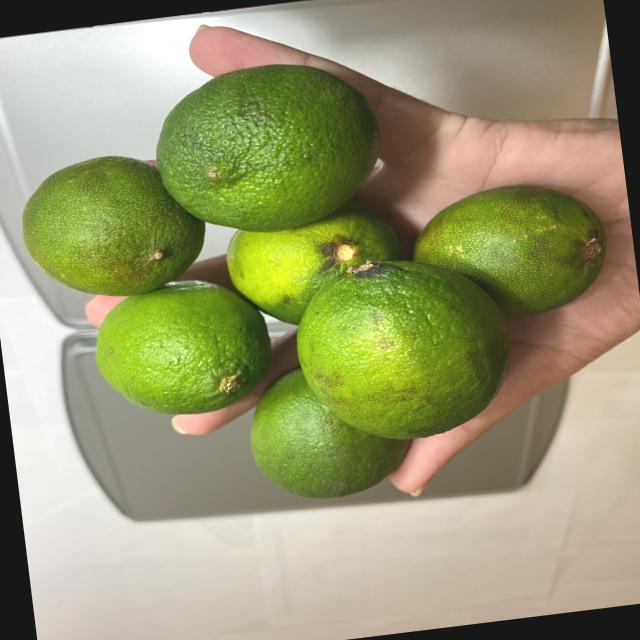lemon: (0, 23, 632, 529)
